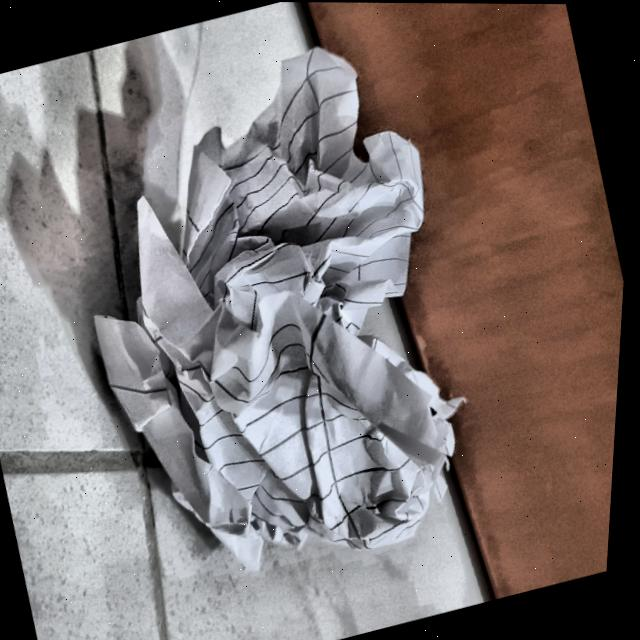paper: (7, 0, 524, 597)
